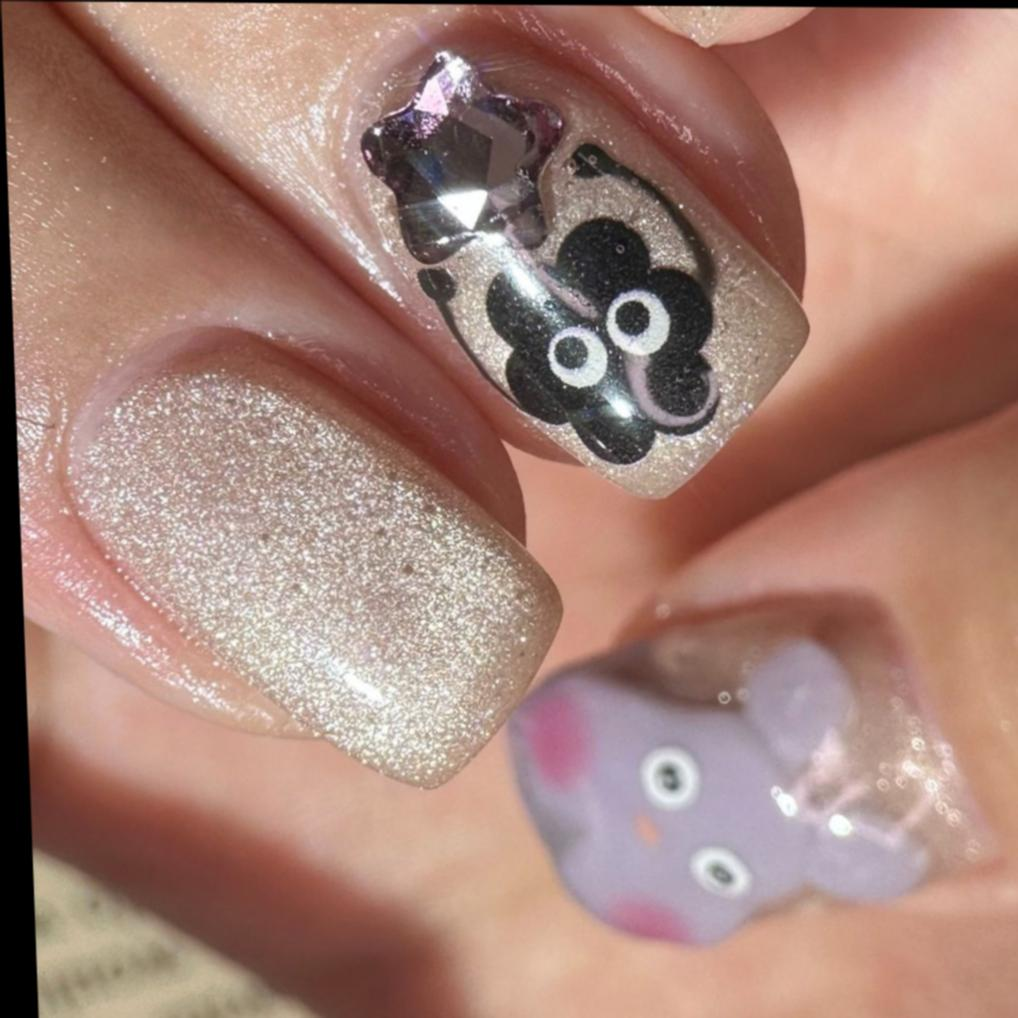nail: (53, 323, 571, 794), (354, 42, 817, 503), (509, 597, 983, 944), (583, 4, 871, 50)
